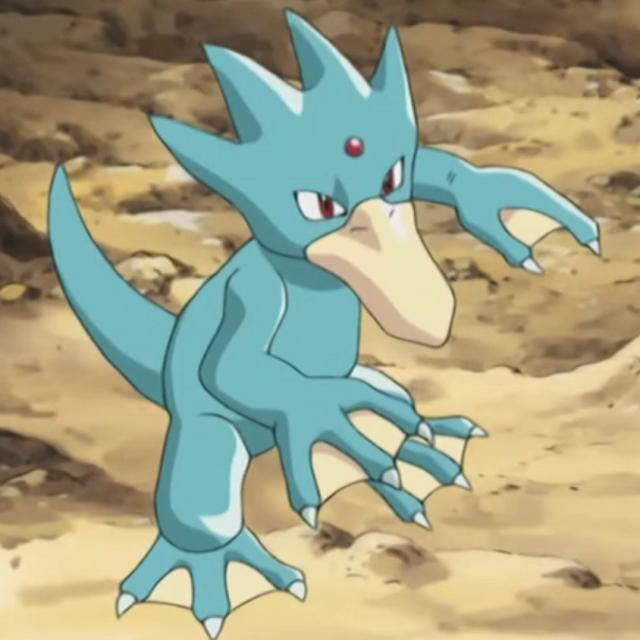Golduck: (99, 18, 569, 622)
